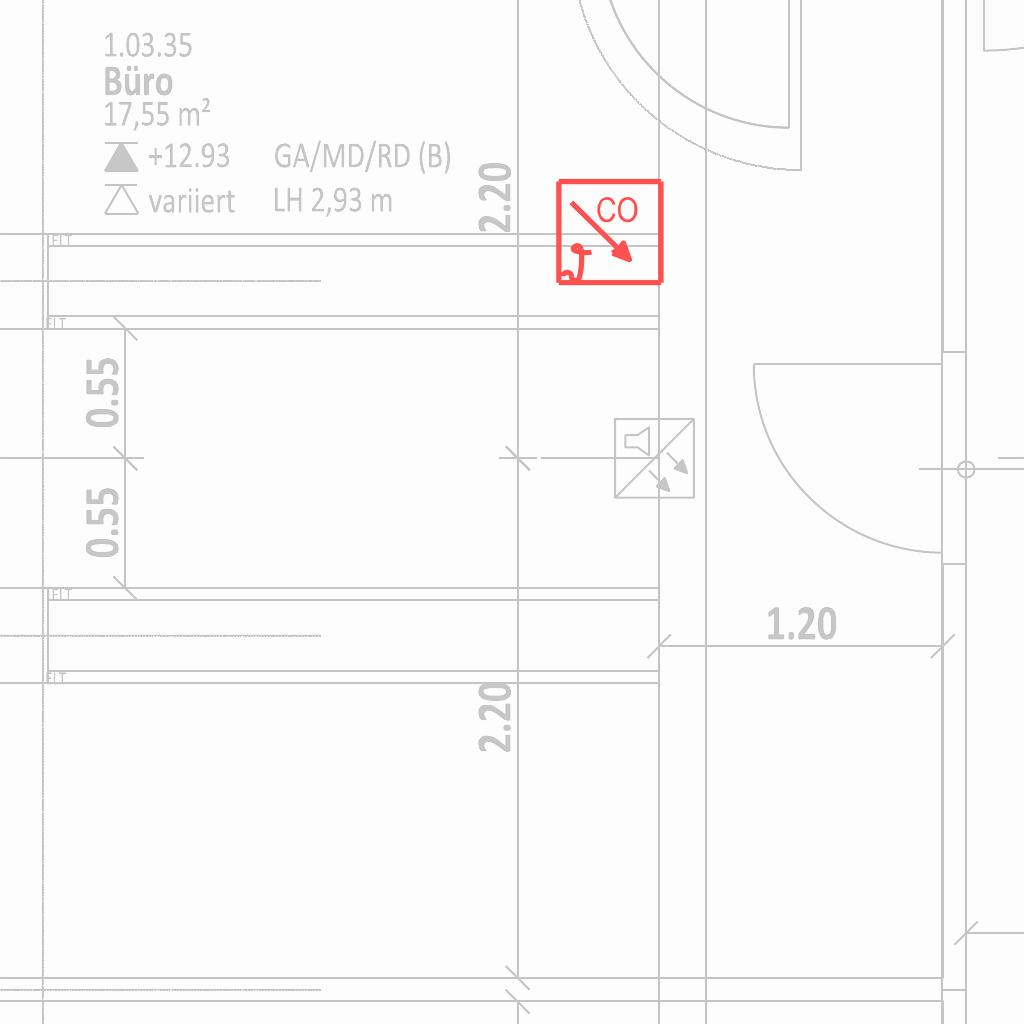ROA_Rauchmelder_optisch_mit_Signalgeber_(Sockelsirene): (554, 177, 667, 290)
